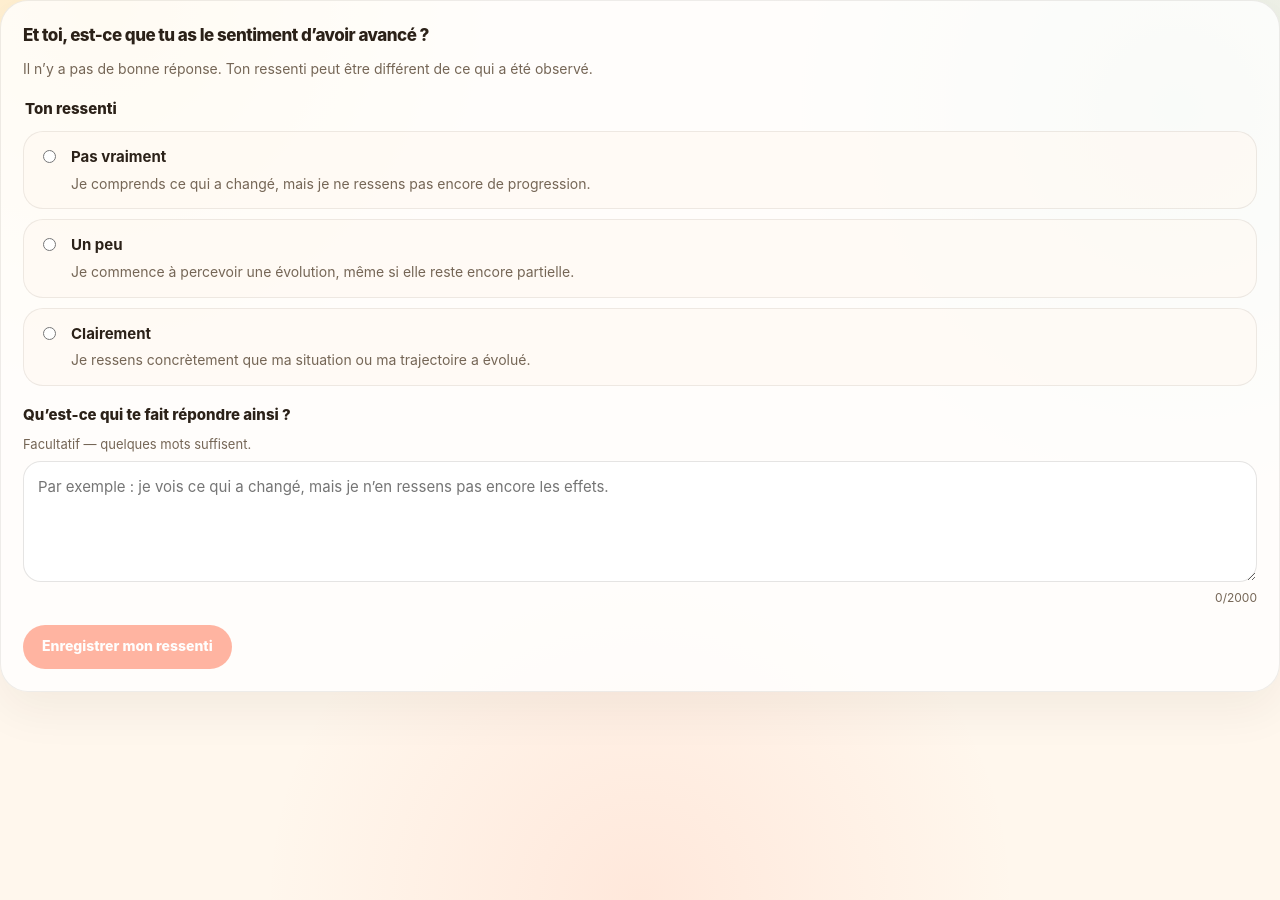
Test: ProgressExperienceForm › shows a local success state after submission
This screenshot has width=1280, height=900.
What coordinates should you click on to do the following:
click the radio button labelled "Un peu"
I would click on:
 (50, 245)
Its box is [43,238,56,251].
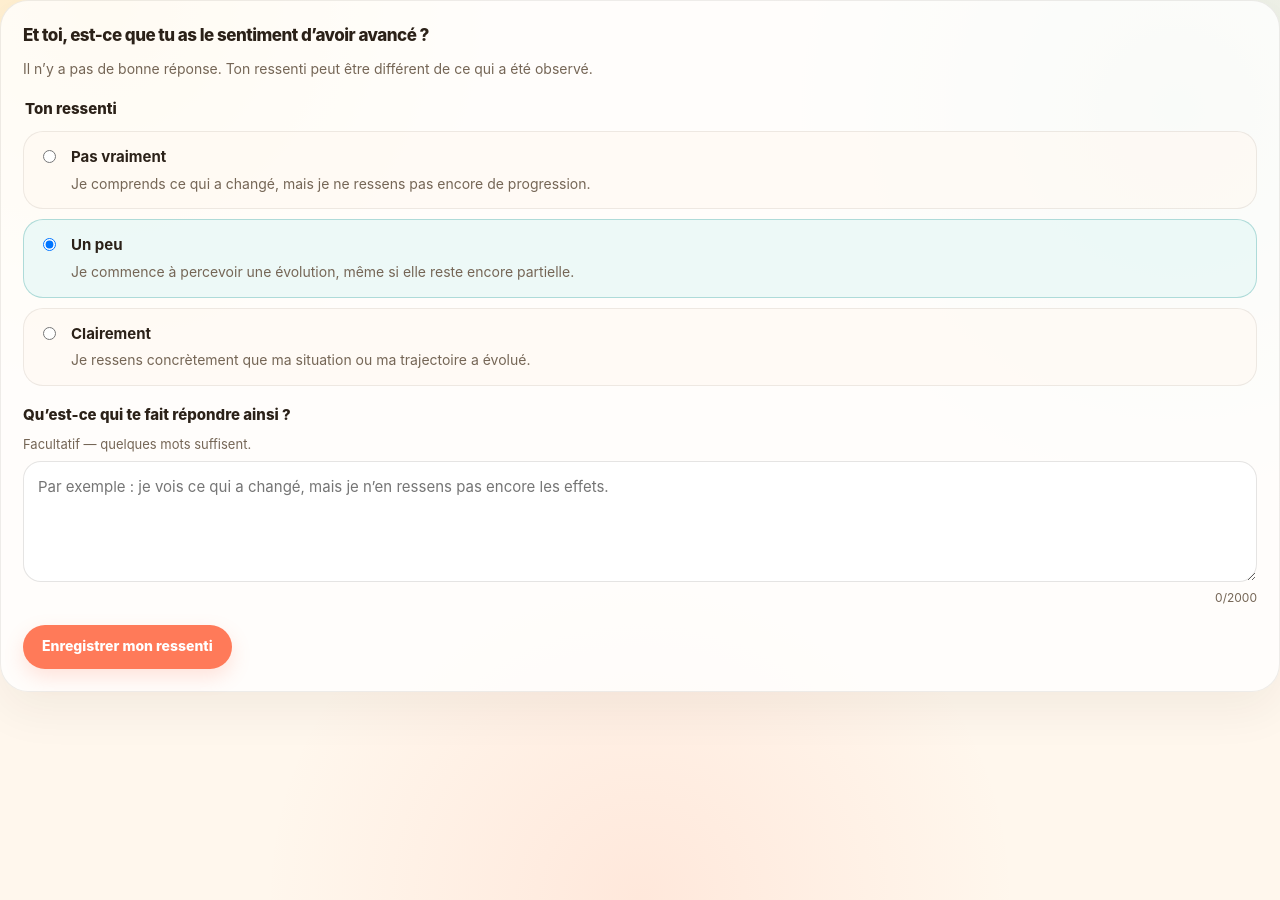
What coordinates should you click on to do the following:
click the button "Enregistrer mon ressenti"
I would click on:
 (127, 647)
Its box is [23,625,232,669].
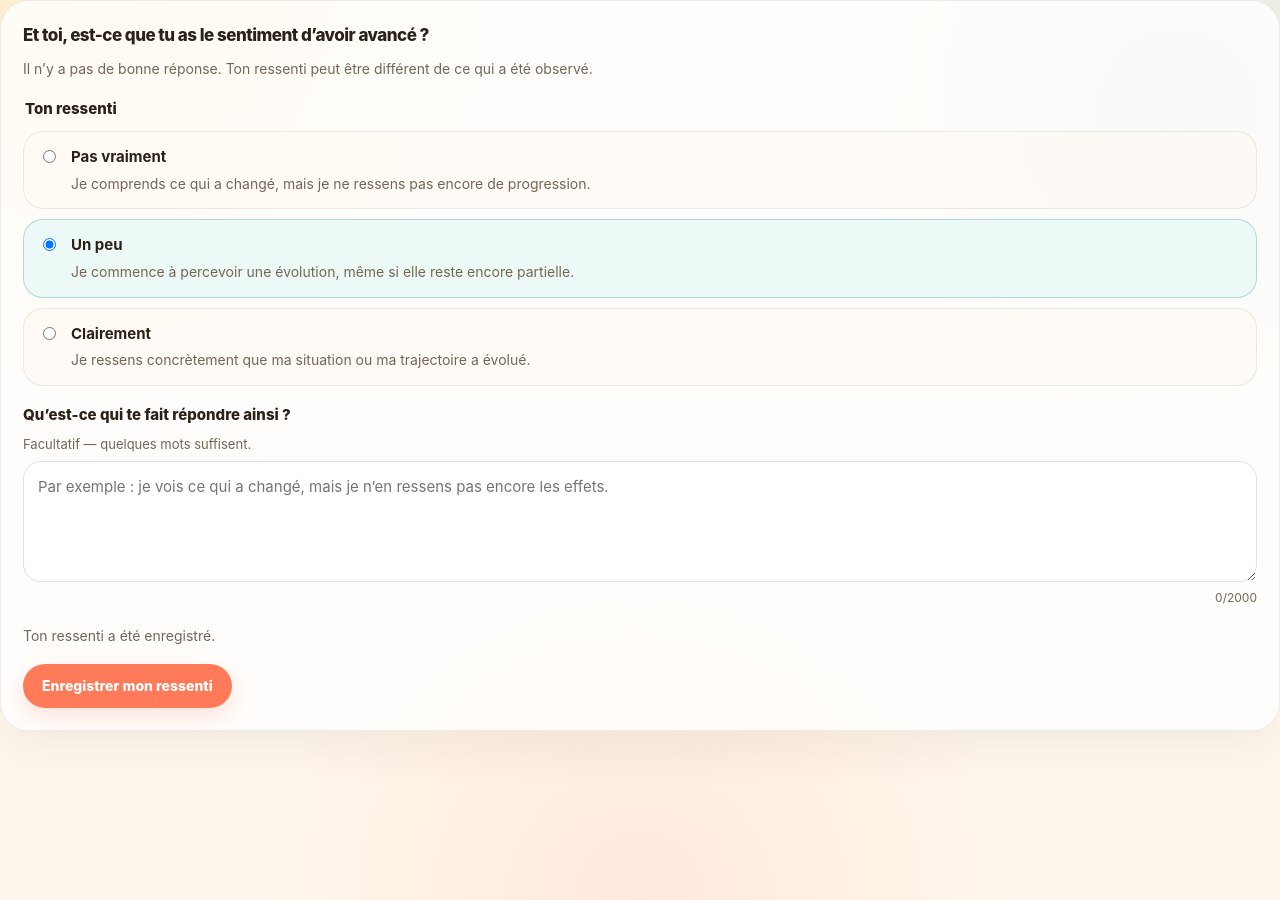
Check: the message reads "Ton ressenti a été enregistré.", box [23,627,215,644]
